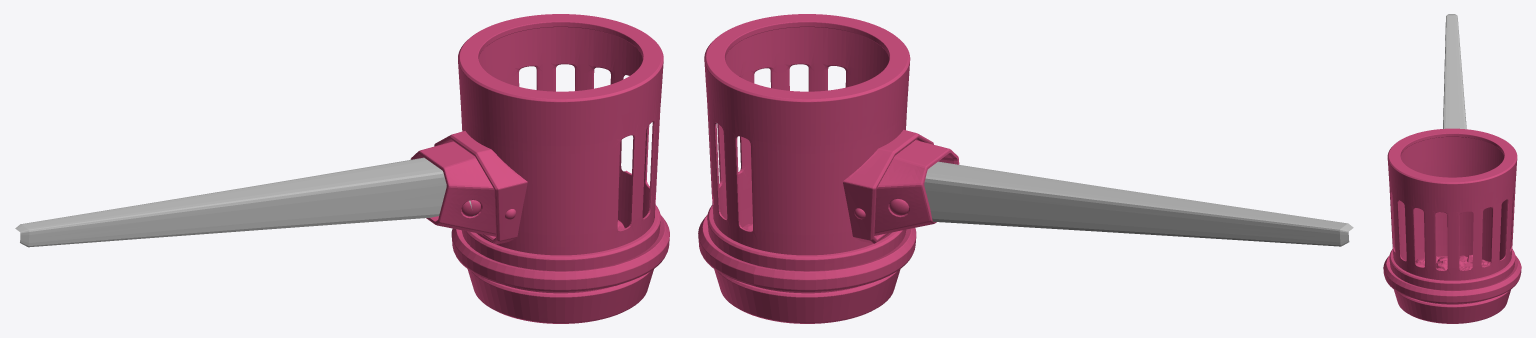
File: interactive_28_2.glb
The picture shows the model from 3 angles, left to right: view 1: azimuth 30°, elevation 25°; view 2: azimuth 150°, elevation 25°; view 3: azimuth 270°, elevation 25°; orthographic projection. The views are drawn at different scales.
Visible parts, largest first — view 1: pred_target_mesh.ply; view 2: pred_target_mesh.ply; view 3: pred_target_mesh.ply.
Boxes of the visible parts, x1=… form: pred_target_mesh.ply: x1=15, y1=14, x2=669, y2=323; pred_target_mesh.ply: x1=698, y1=14, x2=1353, y2=323; pred_target_mesh.ply: x1=1383, y1=14, x2=1521, y2=323.
Size of the model in its own units: 0.9095 by 0.3158 by 0.2705.
